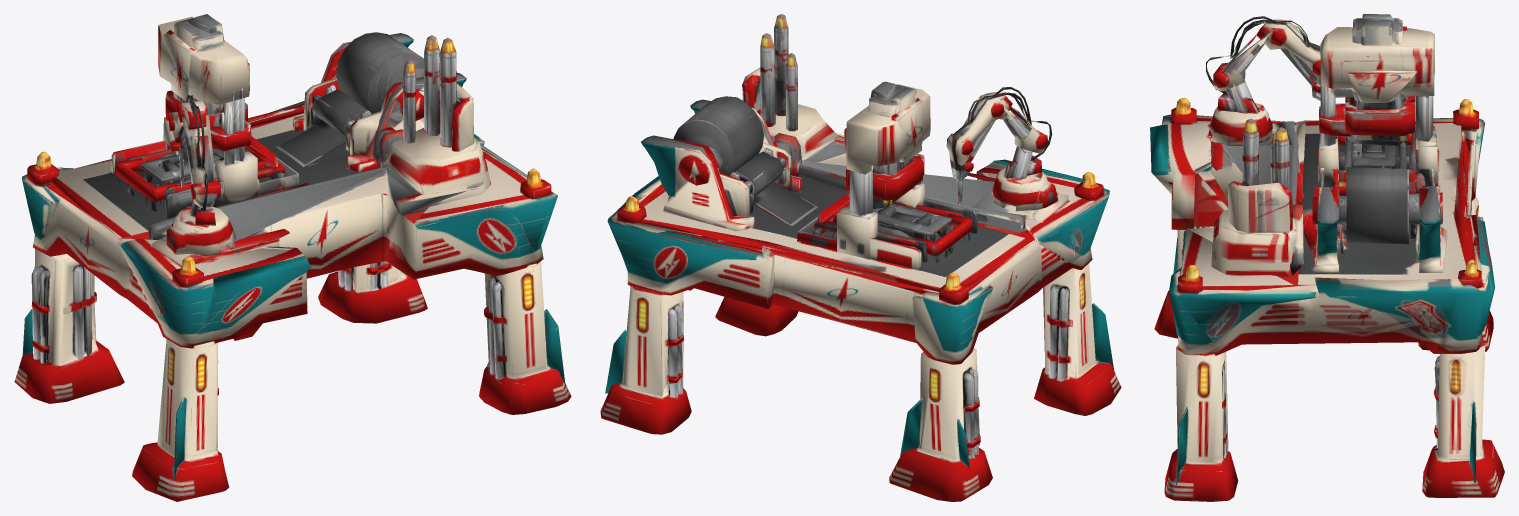
File: assembler.fbx
The picture shows the model from 3 angles, left to right: view 1: azimuth 30°, elevation 25°; view 2: azimuth 150°, elevation 25°; view 3: azimuth 270°, elevation 25°; orthographic projection. The views are drawn at different scales.
Parts seen in each view (by area): view 1: Mesh_0; view 2: Mesh_0; view 3: Mesh_0.
Boxes of the visible parts, x1=… form: Mesh_0: x1=14, y1=14, x2=571, y2=501; Mesh_0: x1=600, y1=14, x2=1121, y2=501; Mesh_0: x1=1150, y1=14, x2=1504, y2=501.
Size of the model in its own units: 95.61 by 82.13 by 73.24.
Materials: 1 (1 with a texture image).
